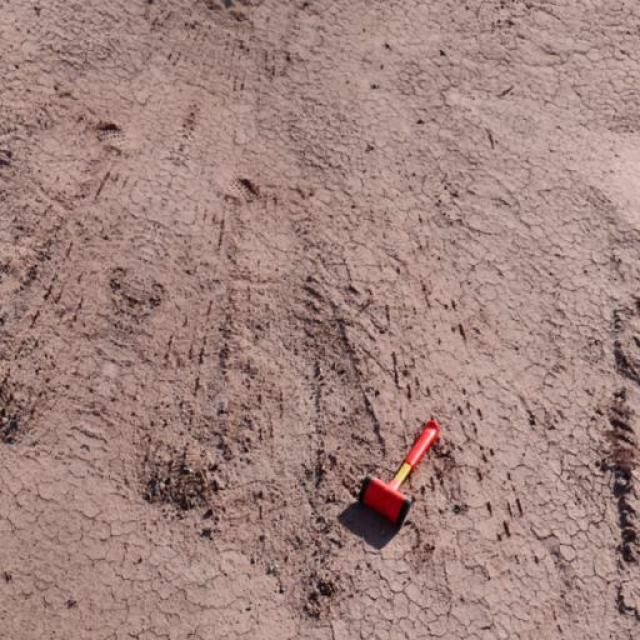mallet: (360, 418, 442, 526)
